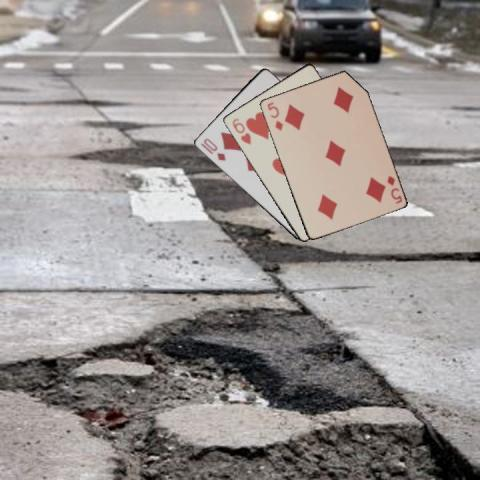10d: (200, 135, 227, 162)
5d: (264, 99, 284, 132), (384, 172, 403, 205)
6h: (229, 115, 252, 146)
